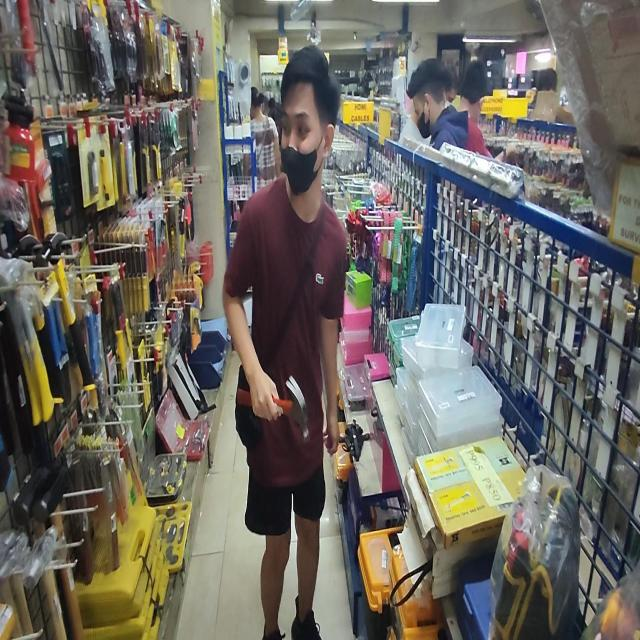hammer: (237, 376, 310, 442)
